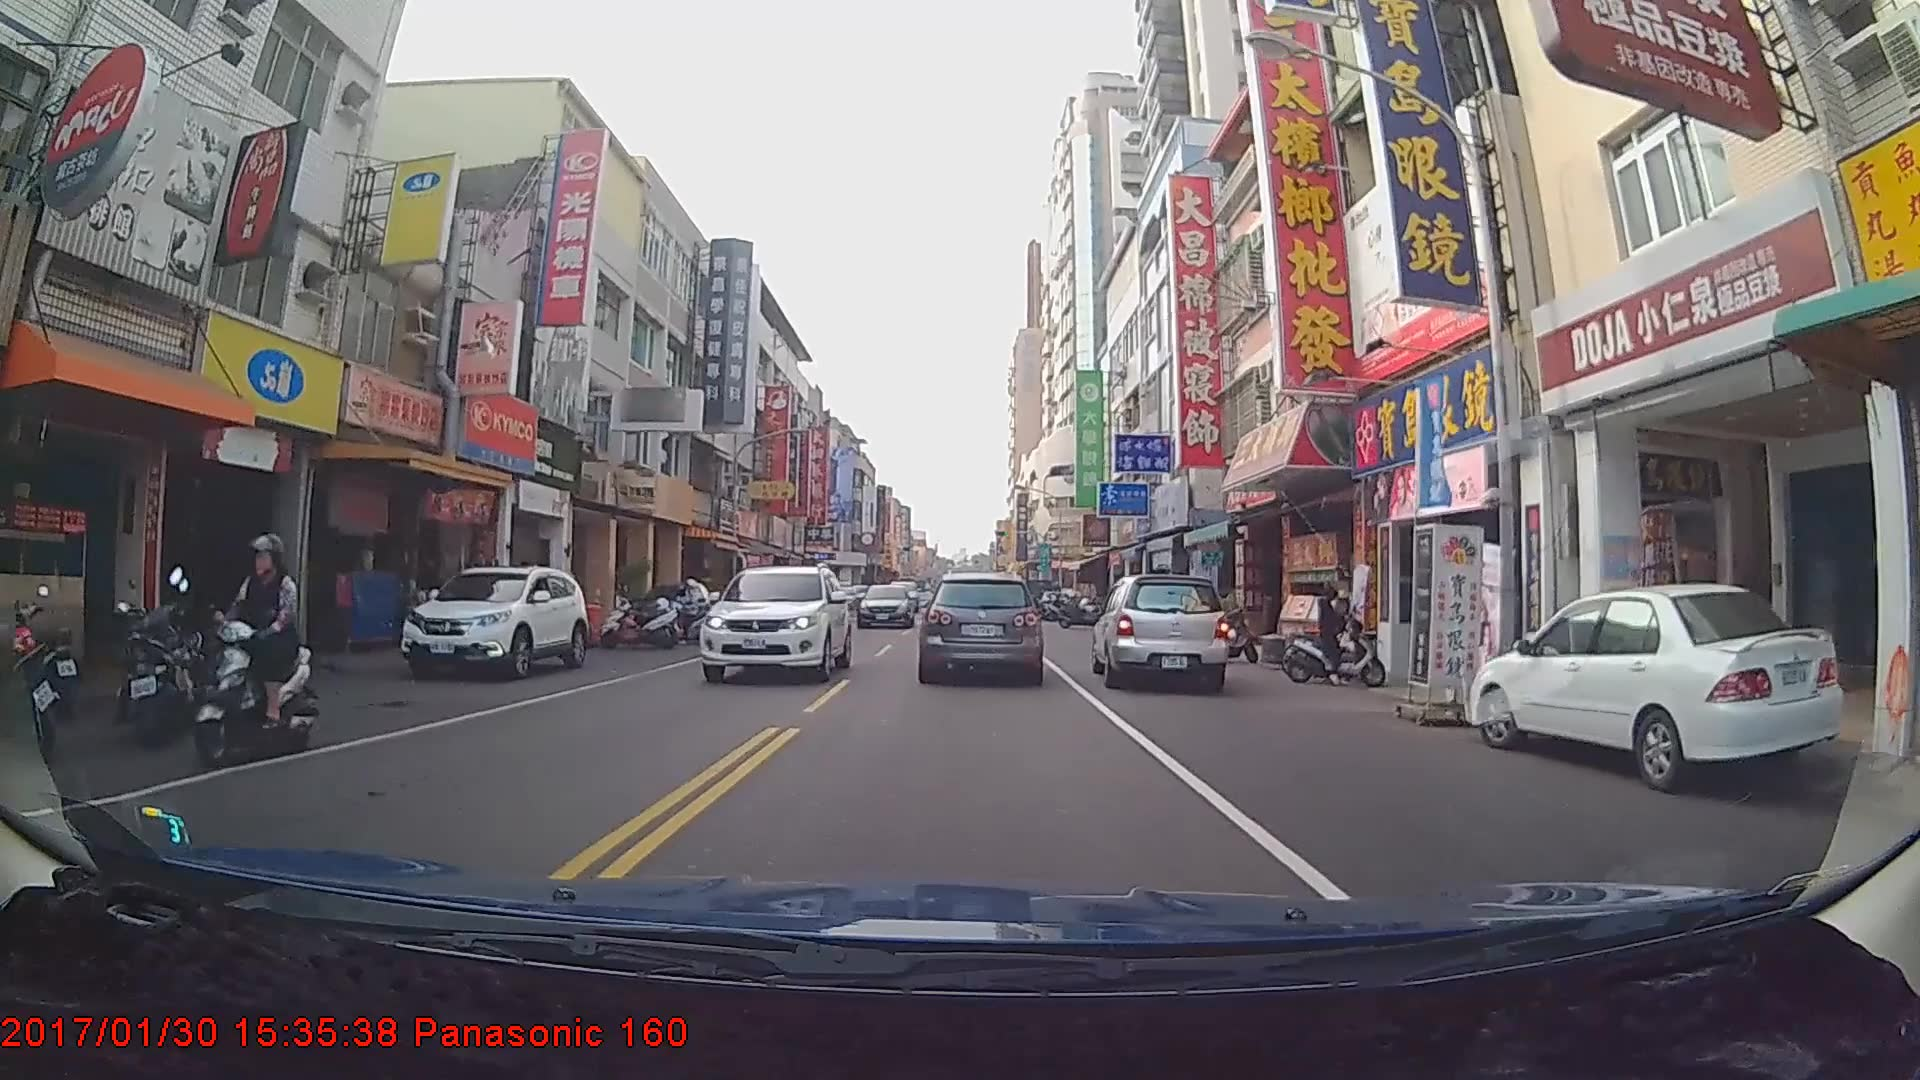rider: (193, 534, 322, 770), (1280, 576, 1393, 691)
vehicle: (1468, 584, 1843, 785), (396, 562, 591, 682), (701, 562, 851, 683), (1090, 571, 1229, 694), (920, 572, 1042, 682), (856, 584, 915, 629)
